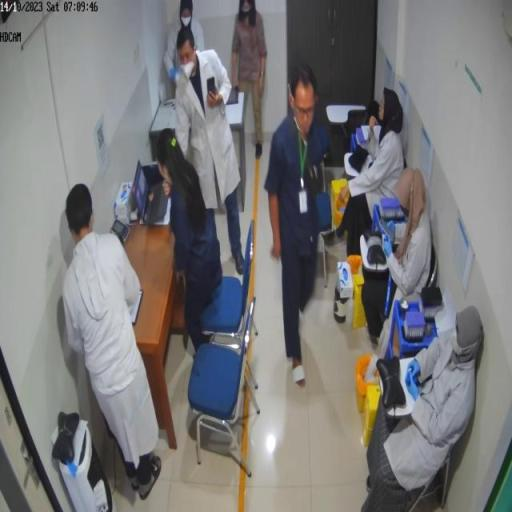person: (63, 186, 164, 501), (363, 306, 485, 508), (265, 65, 331, 392), (175, 27, 246, 276), (156, 130, 224, 357), (322, 88, 405, 265), (361, 168, 435, 350), (232, 2, 269, 159), (163, 1, 206, 98)
